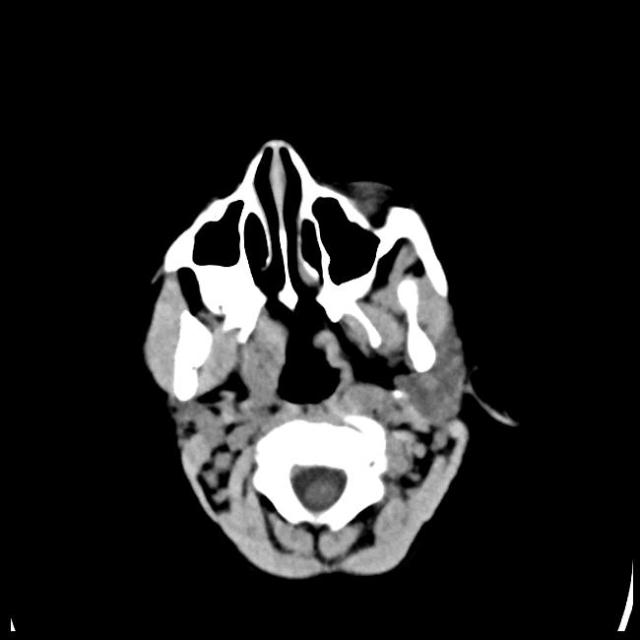lesion: (137, 135, 518, 583)
